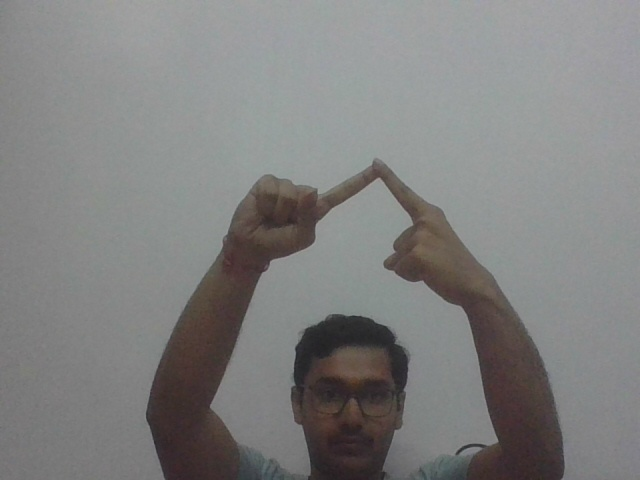E: (235, 156, 488, 283)
